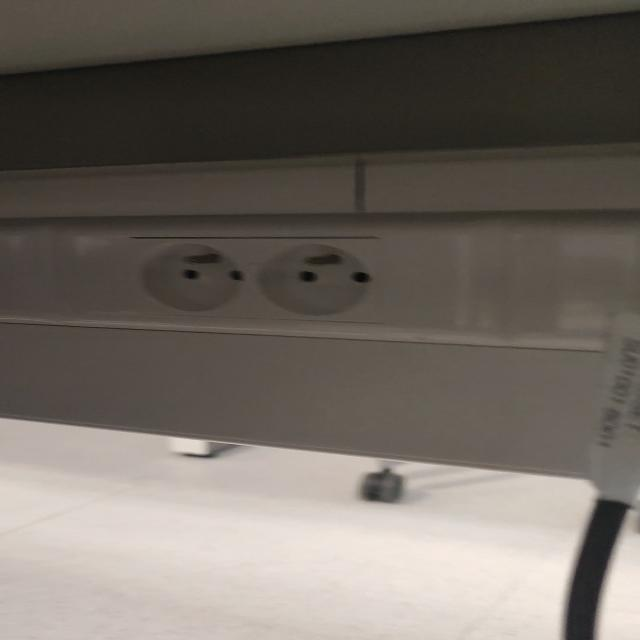house plug: (236, 233, 393, 328), (130, 237, 252, 323)
